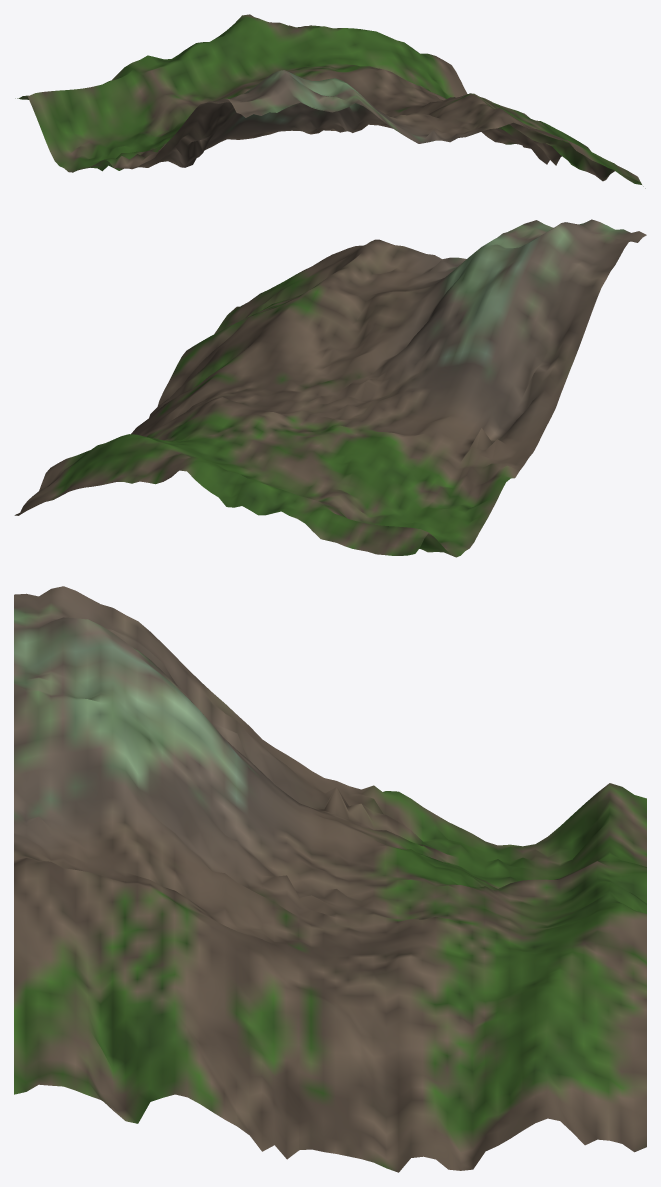
File: chunk8-11_LOD0.obj
3 views of the same model, one above another, from view 1: azimuth 30°, elevation 25°; view 2: azimuth 150°, elevation 25°; view 3: azimuth 270°, elevation 25° (orthographic). The views are drawn at different scales.
Visible parts, largest first — view 1: chunk_8_11_LOD0; view 2: chunk_8_11_LOD0; view 3: chunk_8_11_LOD0.
Boxes of the visible parts, bbox=[...] form: chunk_8_11_LOD0: bbox=[15, 14, 645, 188]; chunk_8_11_LOD0: bbox=[14, 219, 646, 557]; chunk_8_11_LOD0: bbox=[14, 586, 646, 1172].
Size of the model in its own units: 1994 by 1143 by 1994.
Materials: 1 (1 with a texture image).
